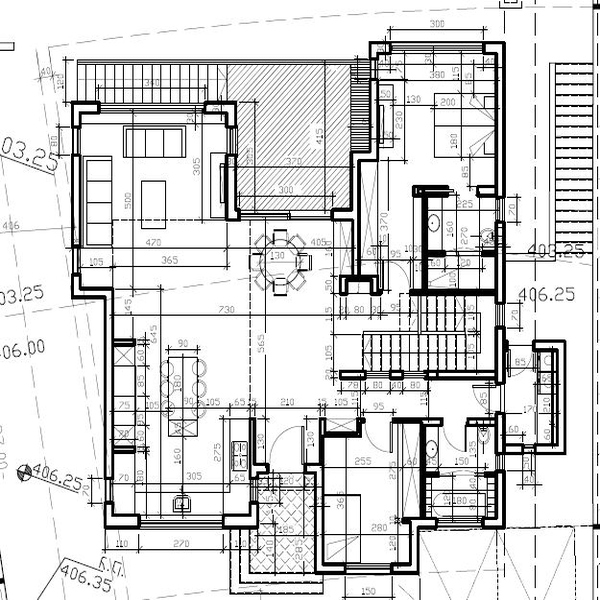door: (270, 424, 309, 475), (506, 339, 540, 390), (362, 413, 405, 453), (469, 377, 511, 417), (378, 254, 415, 293), (441, 411, 470, 458)
room: (89, 287, 259, 529), (364, 26, 510, 286), (65, 94, 238, 304), (329, 282, 517, 389), (330, 278, 505, 390), (313, 419, 423, 578), (411, 410, 511, 530), (494, 325, 569, 447)
wall: (98, 291, 119, 482), (493, 34, 509, 197), (311, 464, 332, 574), (551, 340, 569, 457), (350, 148, 366, 270), (416, 412, 434, 515), (367, 80, 385, 163), (405, 285, 497, 301), (493, 464, 513, 530), (69, 154, 83, 246), (493, 324, 515, 382), (420, 199, 433, 296), (314, 416, 334, 473), (222, 155, 239, 217), (410, 183, 458, 202), (498, 224, 509, 306), (102, 511, 140, 534), (198, 95, 238, 115), (221, 509, 259, 530), (493, 412, 512, 451), (69, 95, 97, 119), (329, 205, 357, 229), (324, 428, 363, 443), (388, 414, 419, 430), (426, 244, 446, 261)
window: (102, 94, 204, 114), (391, 36, 486, 52), (433, 509, 483, 530), (223, 128, 243, 156), (223, 129, 241, 157), (495, 195, 515, 220), (367, 366, 391, 381), (402, 368, 426, 383)
